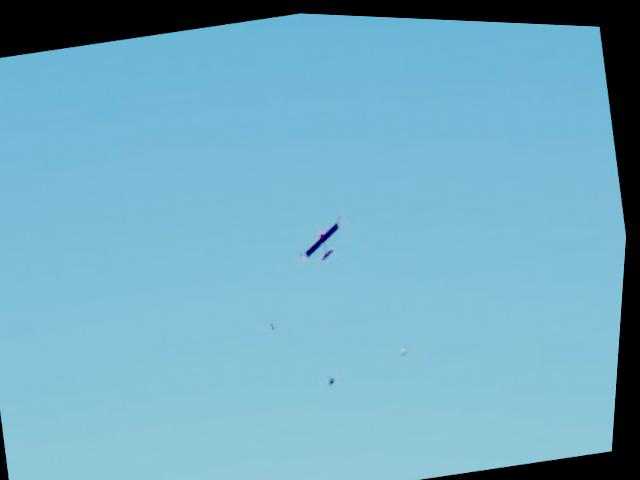uav: (290, 195, 364, 269)
